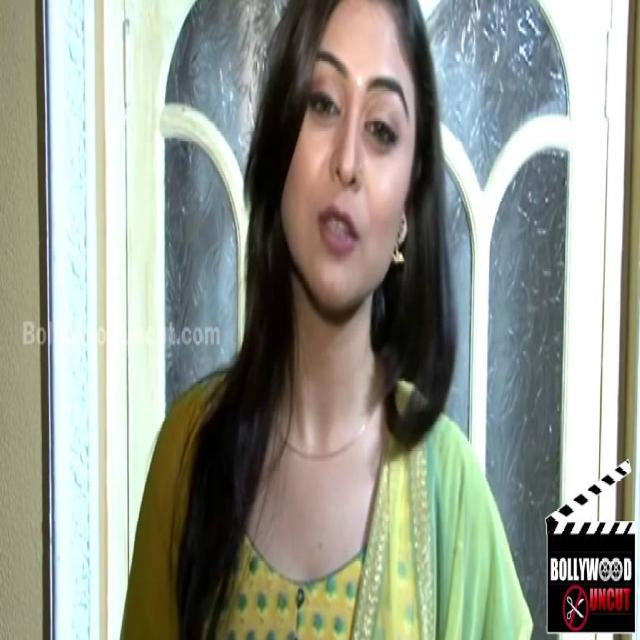nomask: (282, 2, 416, 316)
